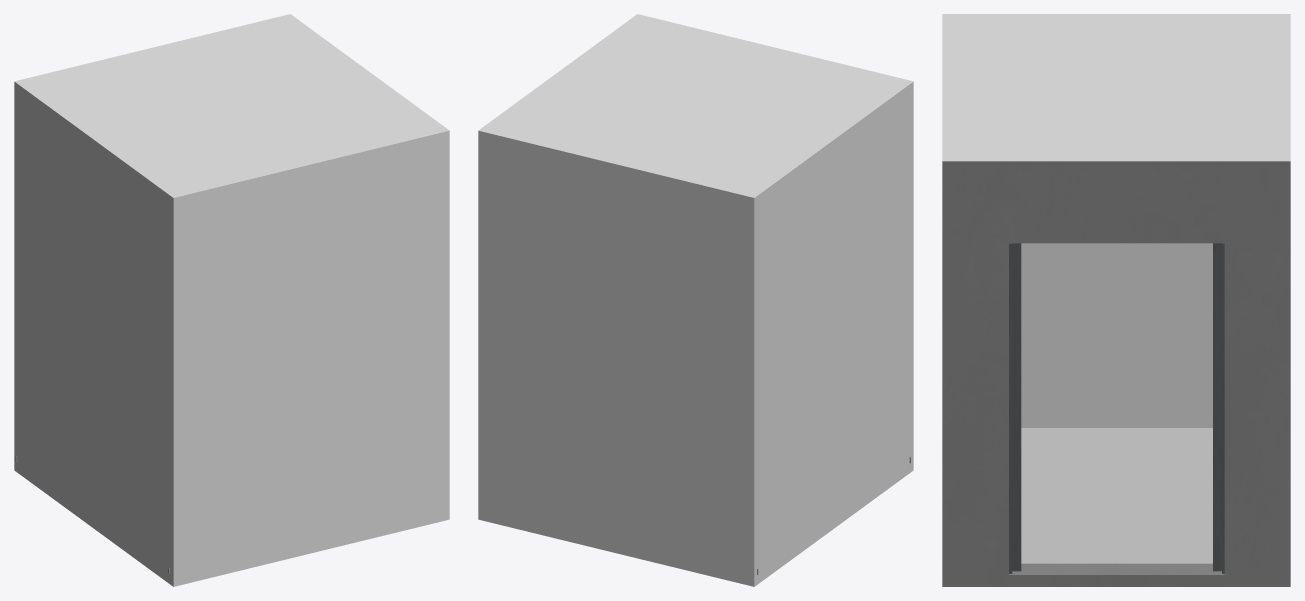
File: aufzug_joined.dae
The picture shows the model from 3 angles, left to right: view 1: azimuth 30°, elevation 25°; view 2: azimuth 150°, elevation 25°; view 3: azimuth 270°, elevation 25°; orthographic projection. The views are drawn at different scales.
Visible parts, largest first — view 1: aufzug; view 2: aufzug; view 3: aufzug.
Boxes of the visible parts, <box> form: aufzug: <box>14,14,449,586</box>; aufzug: <box>478,14,913,586</box>; aufzug: <box>942,14,1290,586</box>.
Size of the model in its own units: 1.94 by 1.93 by 2.6.
